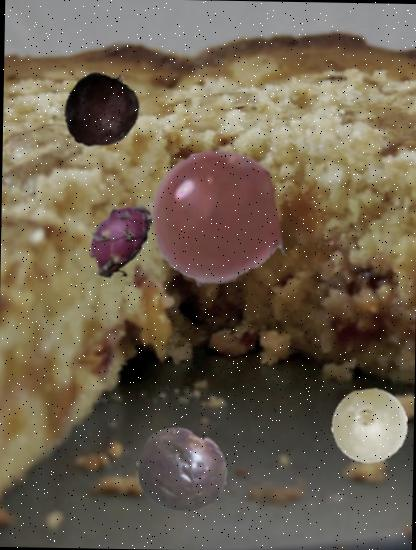Grape: (330, 386, 409, 466)
Passion: (134, 422, 232, 518)
Pitahaya: (76, 198, 157, 279)
Plum: (60, 70, 142, 151)
Redcurrant: (147, 149, 283, 285)
